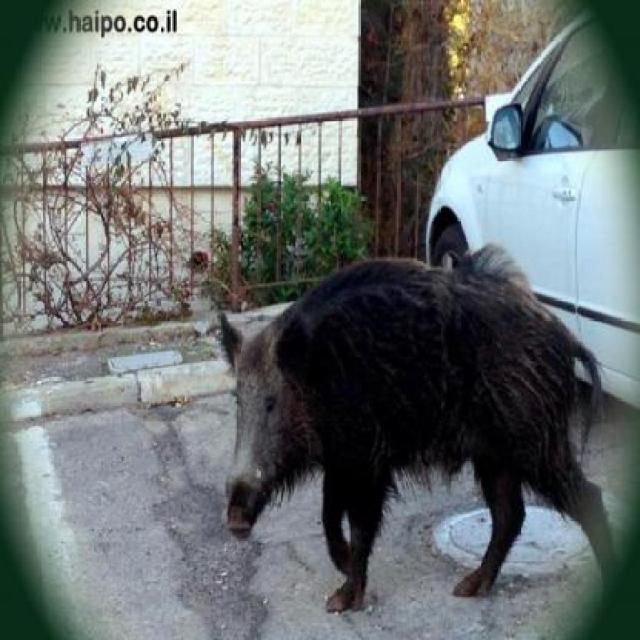wildboar: (212, 238, 628, 618)
